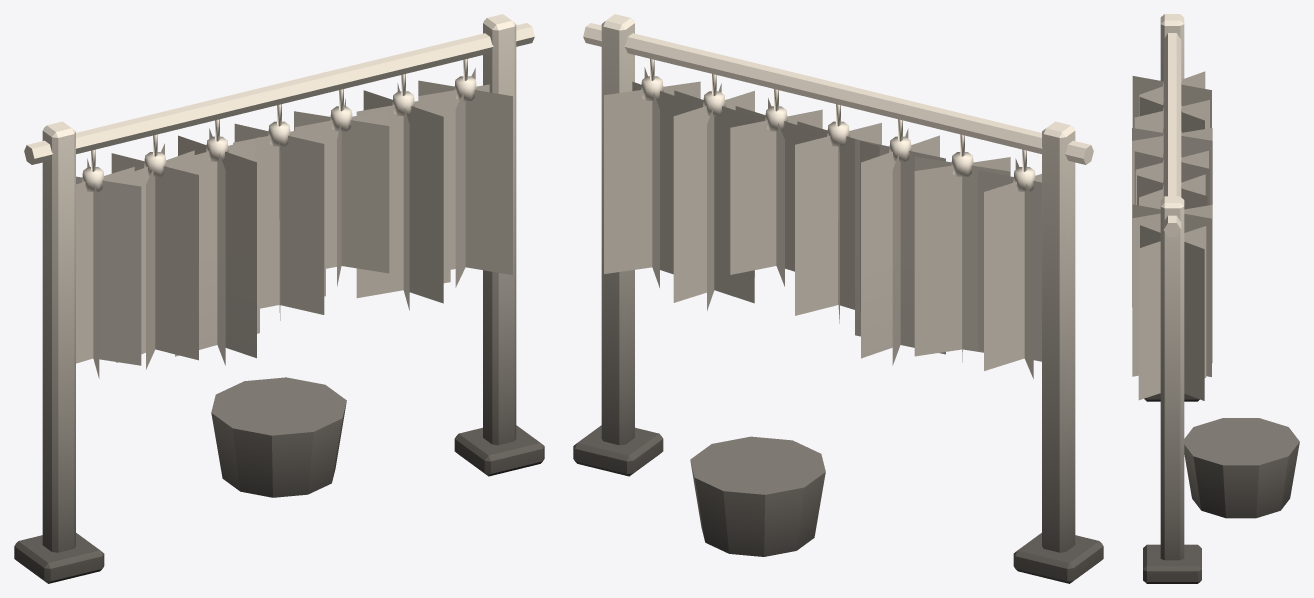
The model's file is SM_VK_Prop_HerbBundles.fbx.
3 views of the same model, side by side, from view 1: azimuth 30°, elevation 25°; view 2: azimuth 150°, elevation 25°; view 3: azimuth 270°, elevation 25° (orthographic). The views are drawn at different scales.
Parts seen in each view (by area): view 1: SM_VK_Prop_HerbBundles.001; view 2: SM_VK_Prop_HerbBundles.001; view 3: SM_VK_Prop_HerbBundles.001.
Part boxes in pixels (x1,y1,x2,y2): SM_VK_Prop_HerbBundles.001: [14, 14, 544, 583]; SM_VK_Prop_HerbBundles.001: [573, 14, 1103, 583]; SM_VK_Prop_HerbBundles.001: [1132, 14, 1299, 583].
Size of the model in its own units: 2.5 by 2.1 by 0.8556.
